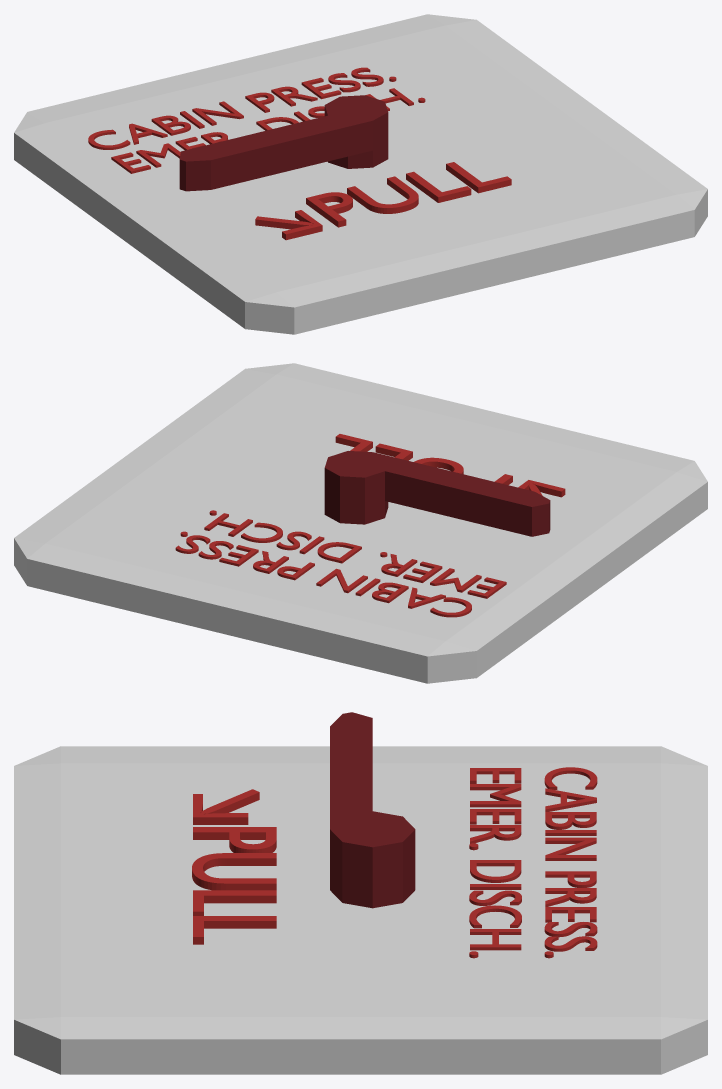
File: depressHandle.fbx
3 views of the same model, one above another, from view 1: azimuth 30°, elevation 25°; view 2: azimuth 150°, elevation 25°; view 3: azimuth 270°, elevation 25° (orthographic). The views are drawn at different scales.
Parts seen in each view (by area): view 1: Cube, Cylinder, Text, Text.001; view 2: Cube, Cylinder, Text, Text.001; view 3: Cube, Text, Cylinder, Text.001.
Part boxes in pixels (left/top/right/bottom): Cube: left=14, top=14, right=707, bottom=334; Cylinder: left=179, top=95, right=388, bottom=191; Text: left=88, top=67, right=425, bottom=173; Text.001: left=255, top=162, right=511, bottom=240; Cube: left=14, top=363, right=707, bottom=683; Cylinder: left=324, top=451, right=550, bottom=536; Text: left=175, top=510, right=506, bottom=617; Text.001: left=335, top=434, right=565, bottom=497; Cube: left=14, top=746, right=707, bottom=1074; Text: left=469, top=767, right=597, bottom=958; Cylinder: left=330, top=712, right=415, bottom=908; Text.001: left=192, top=789, right=276, bottom=944.
Bounding box in the file's own units: 200 × 31.45 × 200.
